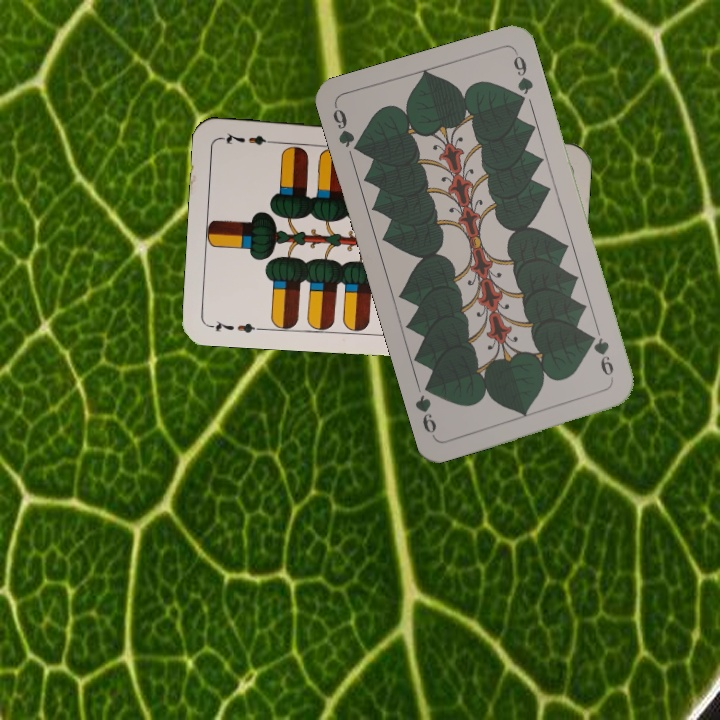E7: (206, 317, 265, 336)
G9: (329, 102, 365, 156), (585, 330, 617, 385)
